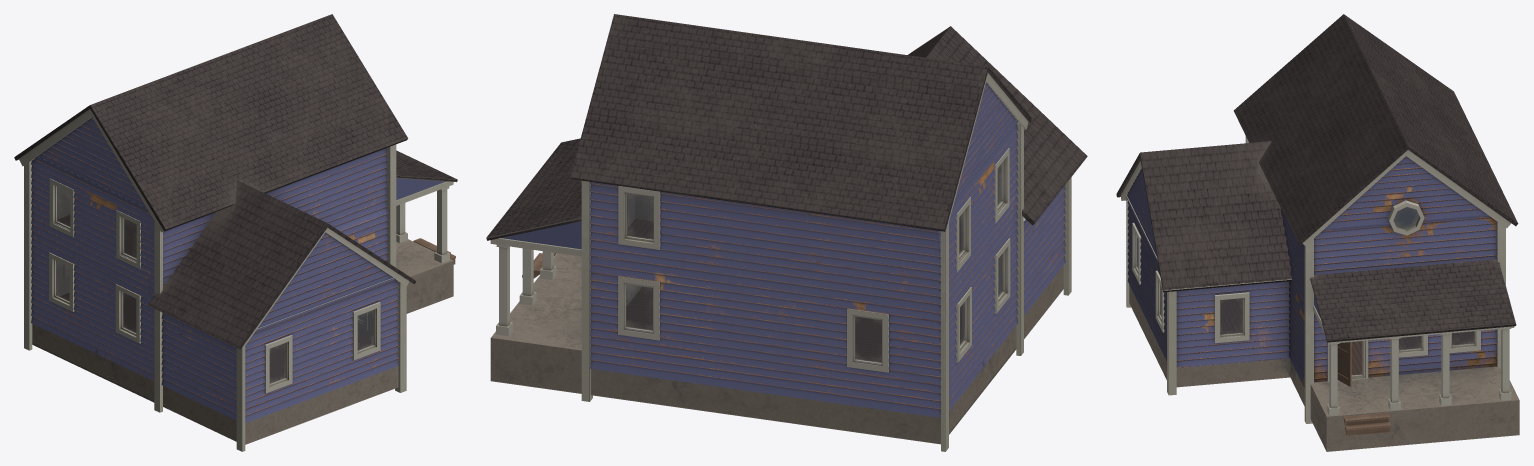
File: suburban_house.glb
3 renders of one model, left to right at view 1: azimuth 30°, elevation 25°; view 2: azimuth 150°, elevation 25°; view 3: azimuth 270°, elevation 25°, orthographic. The views are drawn at different scales.
Visible parts, largest first — view 1: Plane.012, Plane.035, Plane.017, Cube.044, Cube.023; view 2: Plane.012, Plane.035, Plane.017, Cube.044, Cube.023; view 3: Plane.012, Plane.035, Plane.017, Cube.044, Cube.023.
Boxes of the visible parts, x1,y1,x2,y2 form: Plane.012: (14, 14, 457, 451); Plane.035: (31, 117, 398, 422); Plane.017: (32, 156, 453, 444); Cube.044: (49, 178, 455, 393); Cube.023: (56, 187, 373, 383); Plane.012: (486, 14, 1087, 451); Plane.035: (590, 82, 1065, 417); Plane.017: (490, 120, 1063, 444); Cube.044: (496, 148, 1010, 372); Cube.023: (626, 163, 1003, 362); Plane.012: (1116, 14, 1518, 423); Plane.035: (1127, 156, 1497, 387); Plane.017: (1125, 195, 1519, 451); Cube.044: (1132, 200, 1511, 435); Cube.023: (1136, 237, 1474, 350).
Bounding box in the file's own units: 11.5 × 7.84 × 10.52.
Materials: 6 (5 with a texture image).
